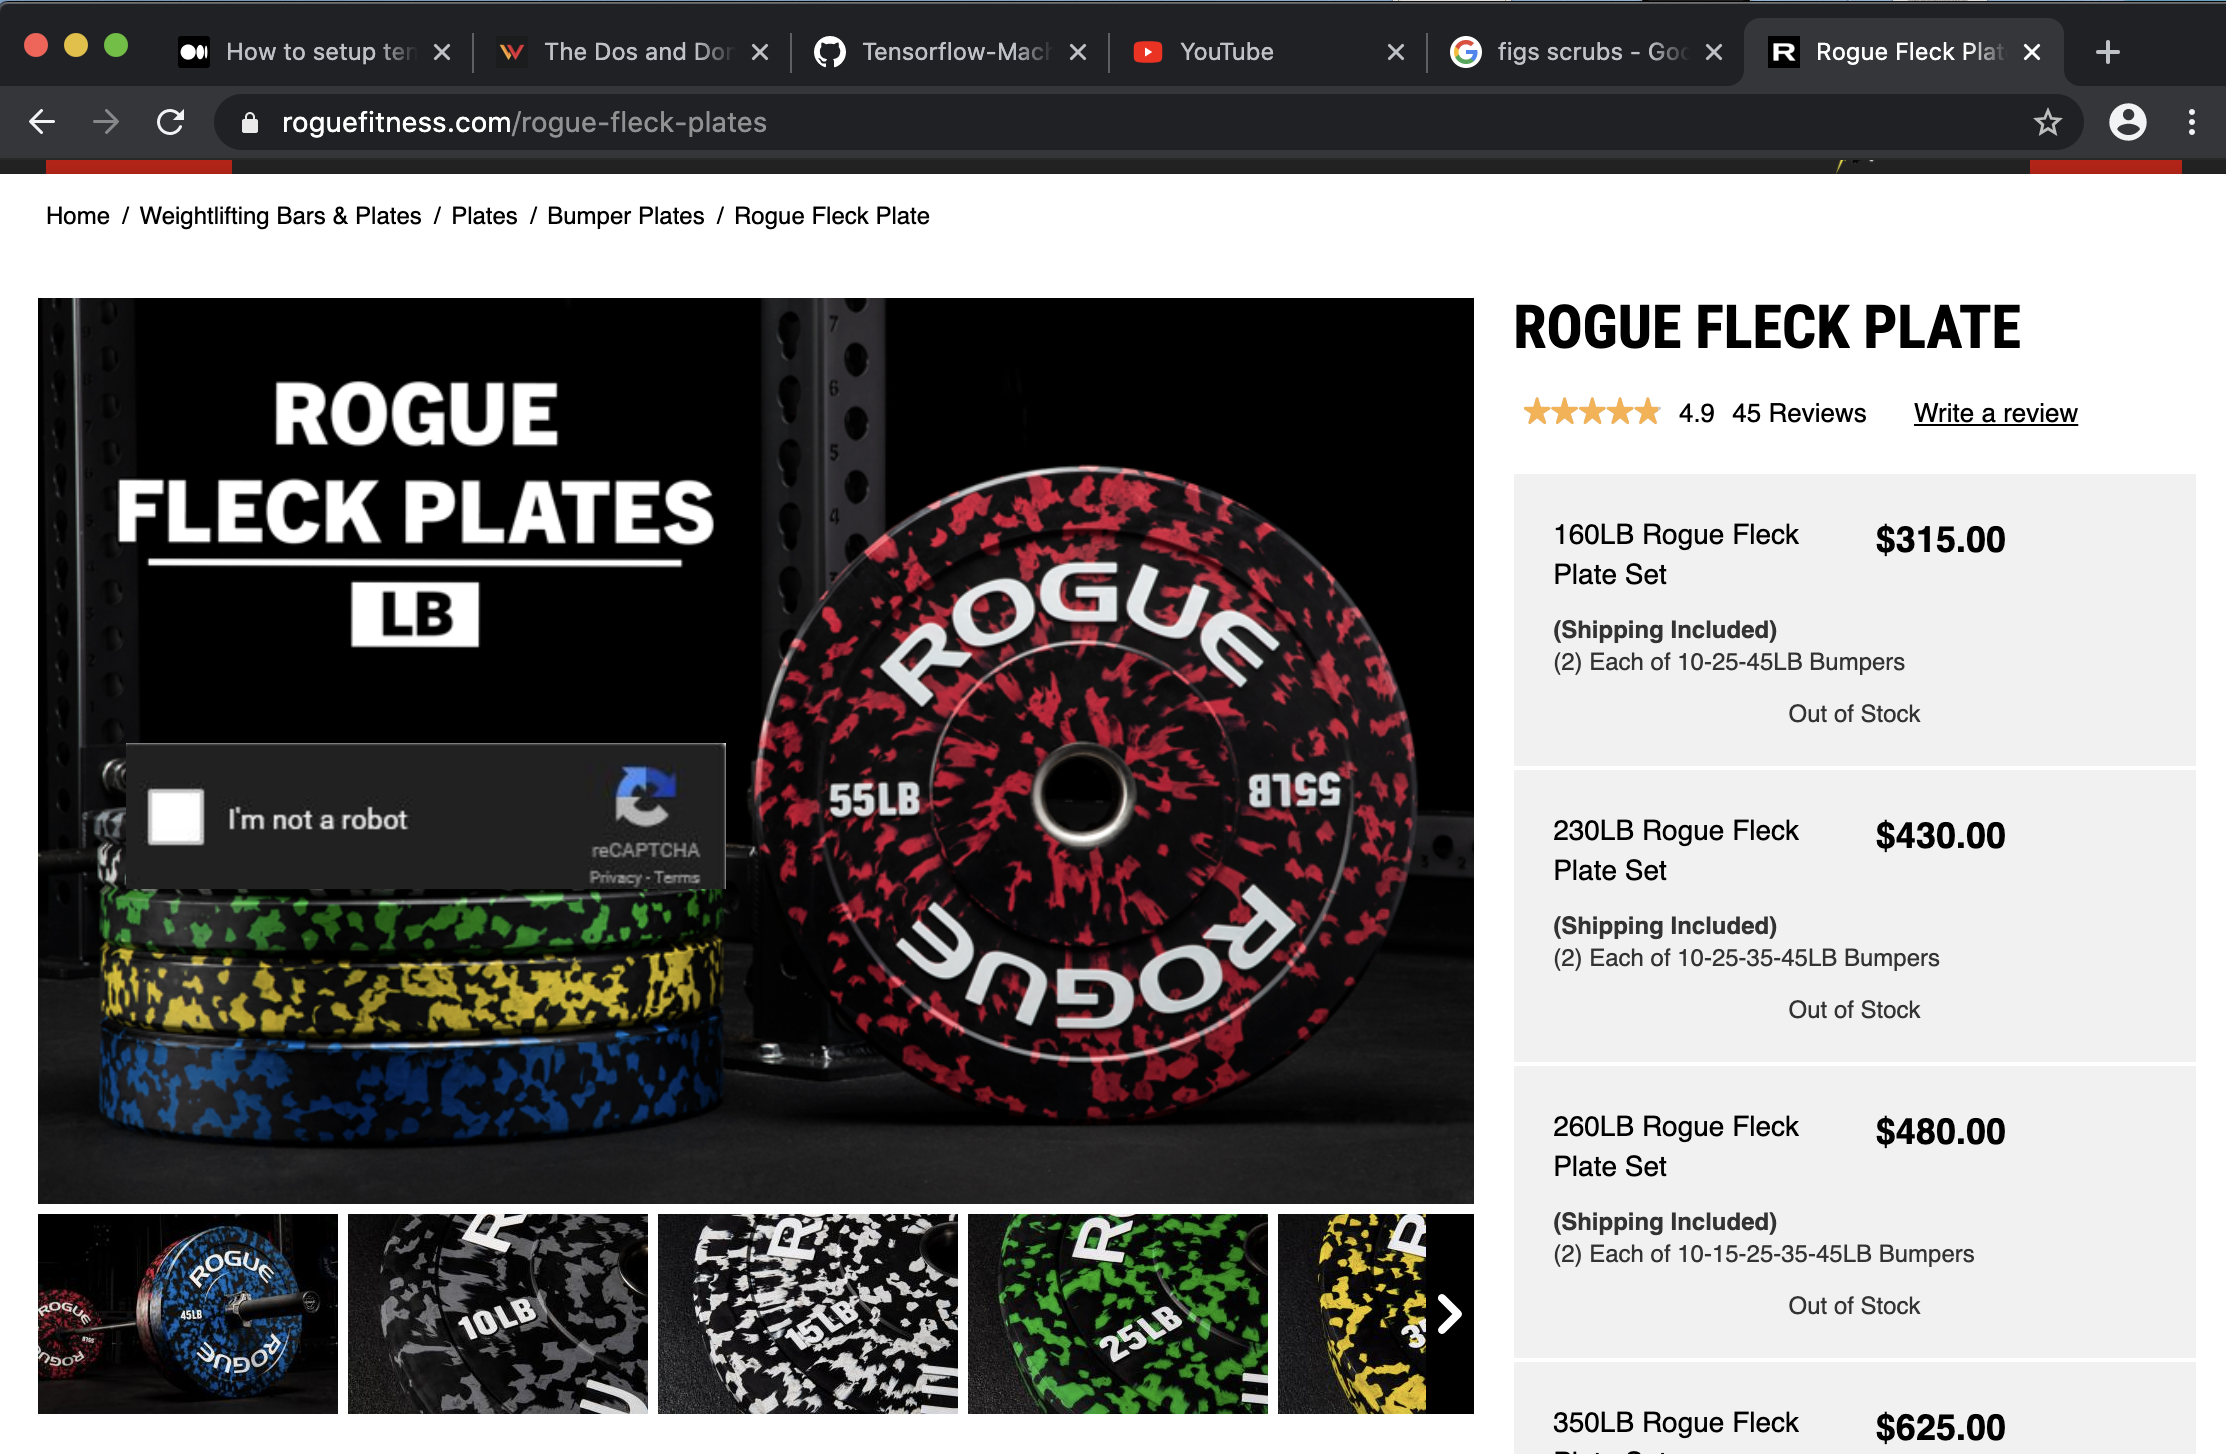captcha: (115, 730, 750, 914)
